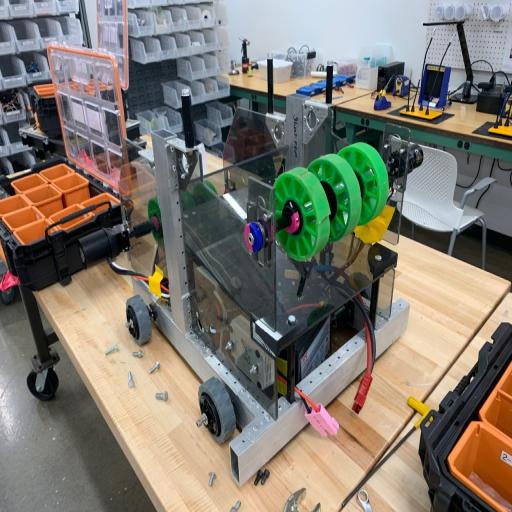robot: (124, 95, 410, 485)
